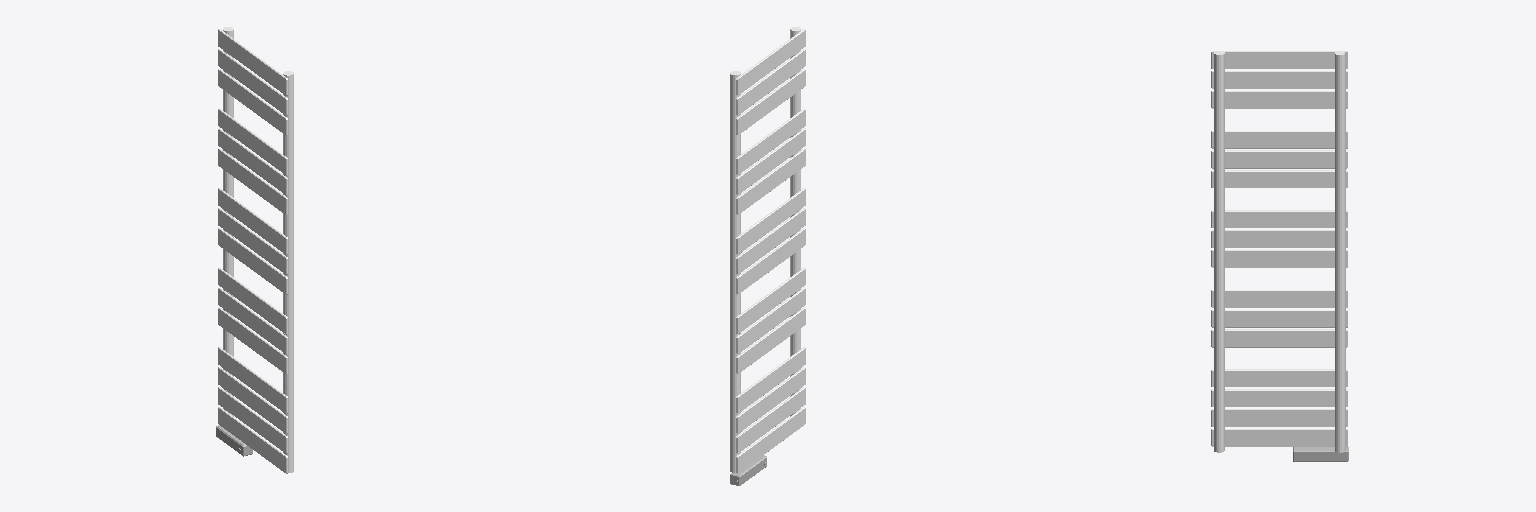
Rendered from radiateur.obj.
The picture shows the model from 3 angles: view 1: azimuth 30°, elevation 25°; view 2: azimuth 150°, elevation 25°; view 3: azimuth 270°, elevation 25°; orthographic projection.
Parts seen in each view (by area): view 1: colecteur_2, Cube_2_2, Cube_2_1, Cube_2_3, Cube_2_8, Cube_2_9, Cube_2, Cube_2_7, Cube_2_10, Cube_2_13, Cube_2_14, Cube_2_15 (+6 smaller); view 2: colecteur_1, Cube_2_2, Cube_2_3, Cube_2_10, Cube_2_1, Cube_2_4, Cube_2_8, Cube_2_9, Cube_2, Cube_2_5, Cube_2_6, Cube_2_7 (+6 smaller); view 3: colecteur_2, colecteur_1, Cube_2_4, Cube_2_11, Cube_2_15, Cube_2, Cube_2_1, Cube_2_2, Cube_2_3, Cube_2_5, Cube_2_6, Cube_2_7 (+7 smaller).
Part boxes in pixels (x1,y1,x2,y2): colecteur_2: (283, 71, 293, 472); Cube_2_2: (218, 367, 287, 433); Cube_2_1: (218, 387, 287, 453); Cube_2_3: (218, 347, 287, 413); Cube_2_8: (218, 208, 287, 274); Cube_2_9: (218, 188, 287, 254); Cube_2: (218, 407, 287, 473); Cube_2_7: (218, 228, 287, 294); Cube_2_10: (218, 148, 287, 214); Cube_2_13: (218, 69, 287, 135); Cube_2_14: (218, 49, 287, 115); Cube_2_15: (218, 29, 287, 95); colecteur_1: (730, 71, 740, 472); Cube_2_2: (736, 367, 805, 433); Cube_2_3: (736, 347, 805, 413); Cube_2_10: (736, 148, 805, 214); Cube_2_1: (736, 387, 805, 453); Cube_2_4: (736, 307, 805, 373); Cube_2_8: (736, 208, 805, 274); Cube_2_9: (736, 188, 805, 254); Cube_2: (736, 407, 805, 473); Cube_2_5: (736, 287, 805, 353); Cube_2_6: (736, 267, 805, 333); Cube_2_7: (736, 228, 805, 294); colecteur_2: (1214, 51, 1224, 452); colecteur_1: (1335, 51, 1345, 452); Cube_2_4: (1211, 329, 1347, 347); Cube_2_11: (1211, 150, 1347, 168); Cube_2_15: (1211, 51, 1347, 68); Cube_2: (1211, 429, 1347, 446); Cube_2_1: (1211, 409, 1347, 426); Cube_2_2: (1211, 389, 1347, 406); Cube_2_3: (1211, 369, 1347, 386); Cube_2_5: (1211, 310, 1347, 327); Cube_2_6: (1211, 290, 1347, 307); Cube_2_7: (1211, 250, 1347, 267).
Size of the model in its own units: 6 by 164 by 50.2.